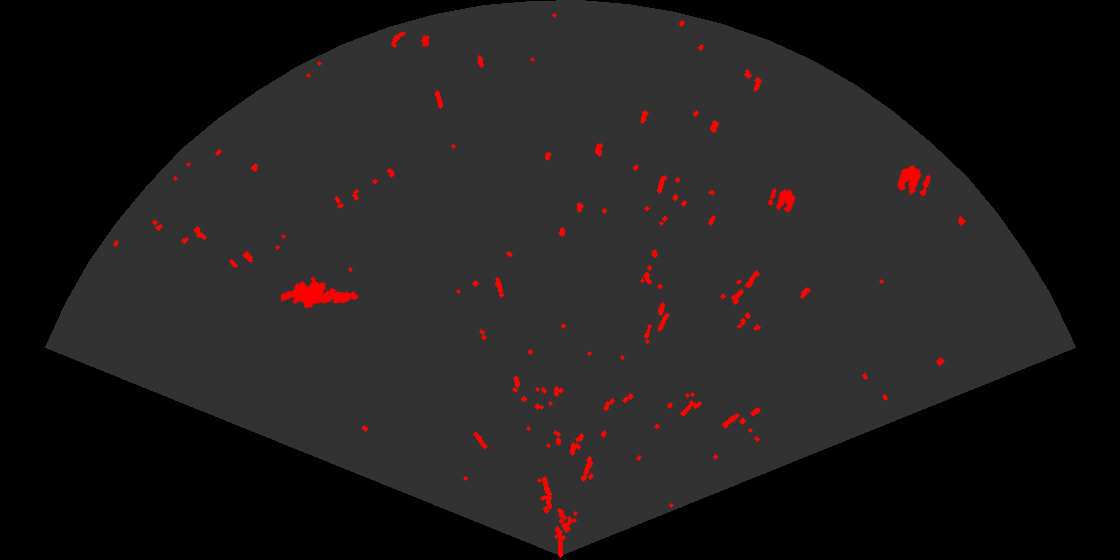ball: (896, 164, 932, 198), (766, 186, 797, 214)
frogman: (281, 275, 360, 310)
